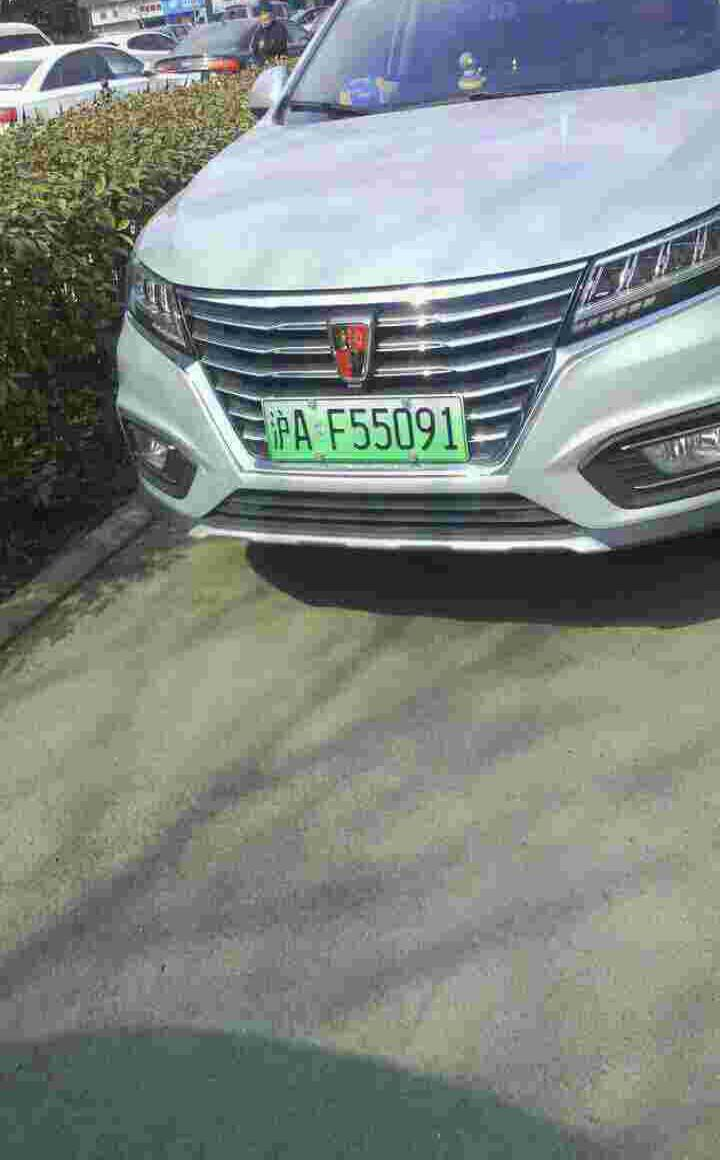car_id: (260, 393, 467, 457)
